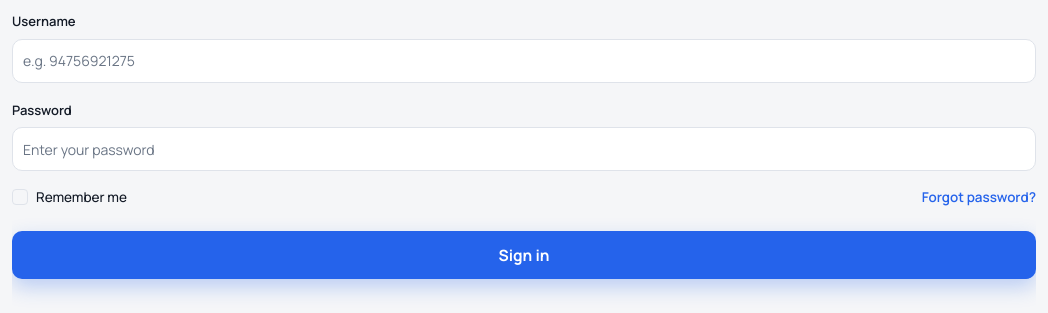
LoginForm › disables the button and shows a loading label while submitting
Type "u" into the field with test id "login-form-username" at (524, 60), box [12,38,1036,82]
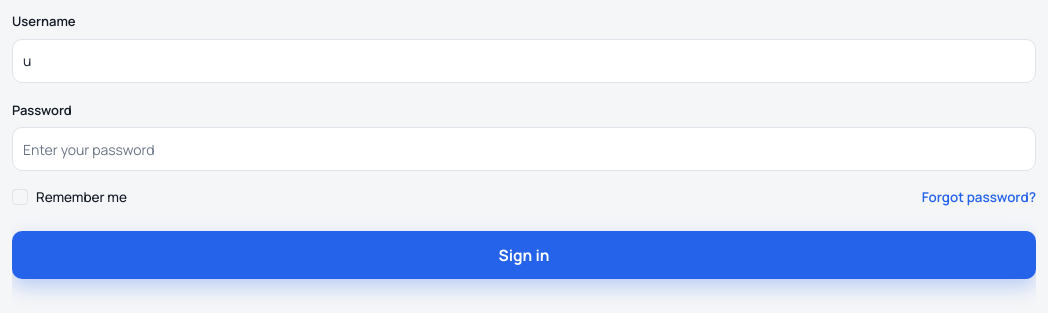
Type "p" into the password field with test id "login-form-password" at (524, 149), box [12,127,1036,171]
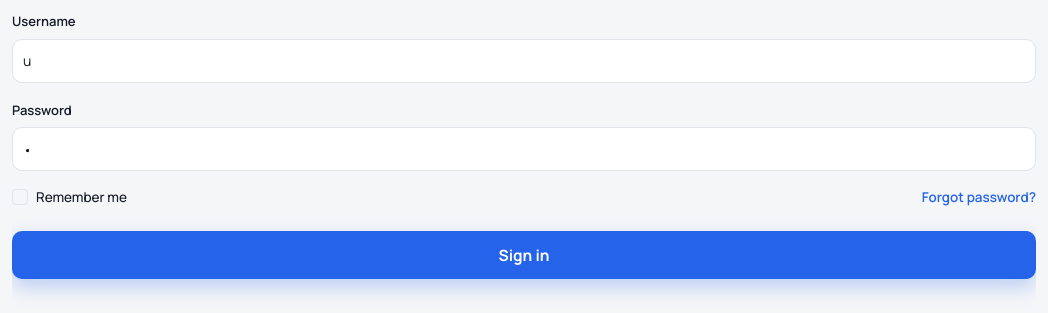
Submit the form
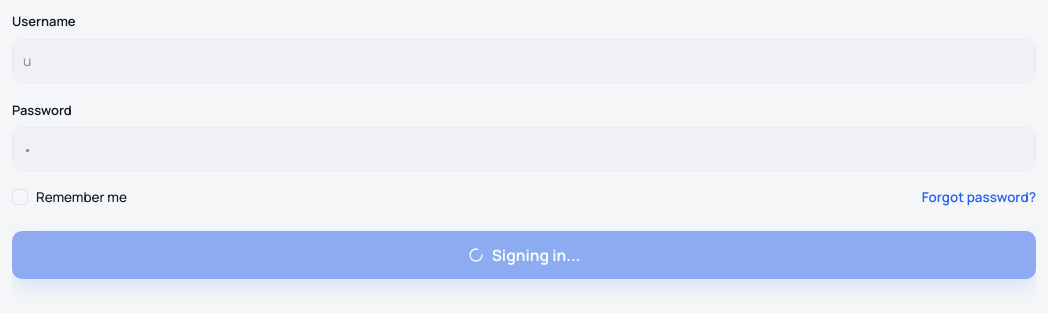
Now the button with test id "login-form-submit" reads "Signing in...", box [12,231,1036,279]
Now the button with test id "login-form-submit" is disabled, box [12,231,1036,279]
